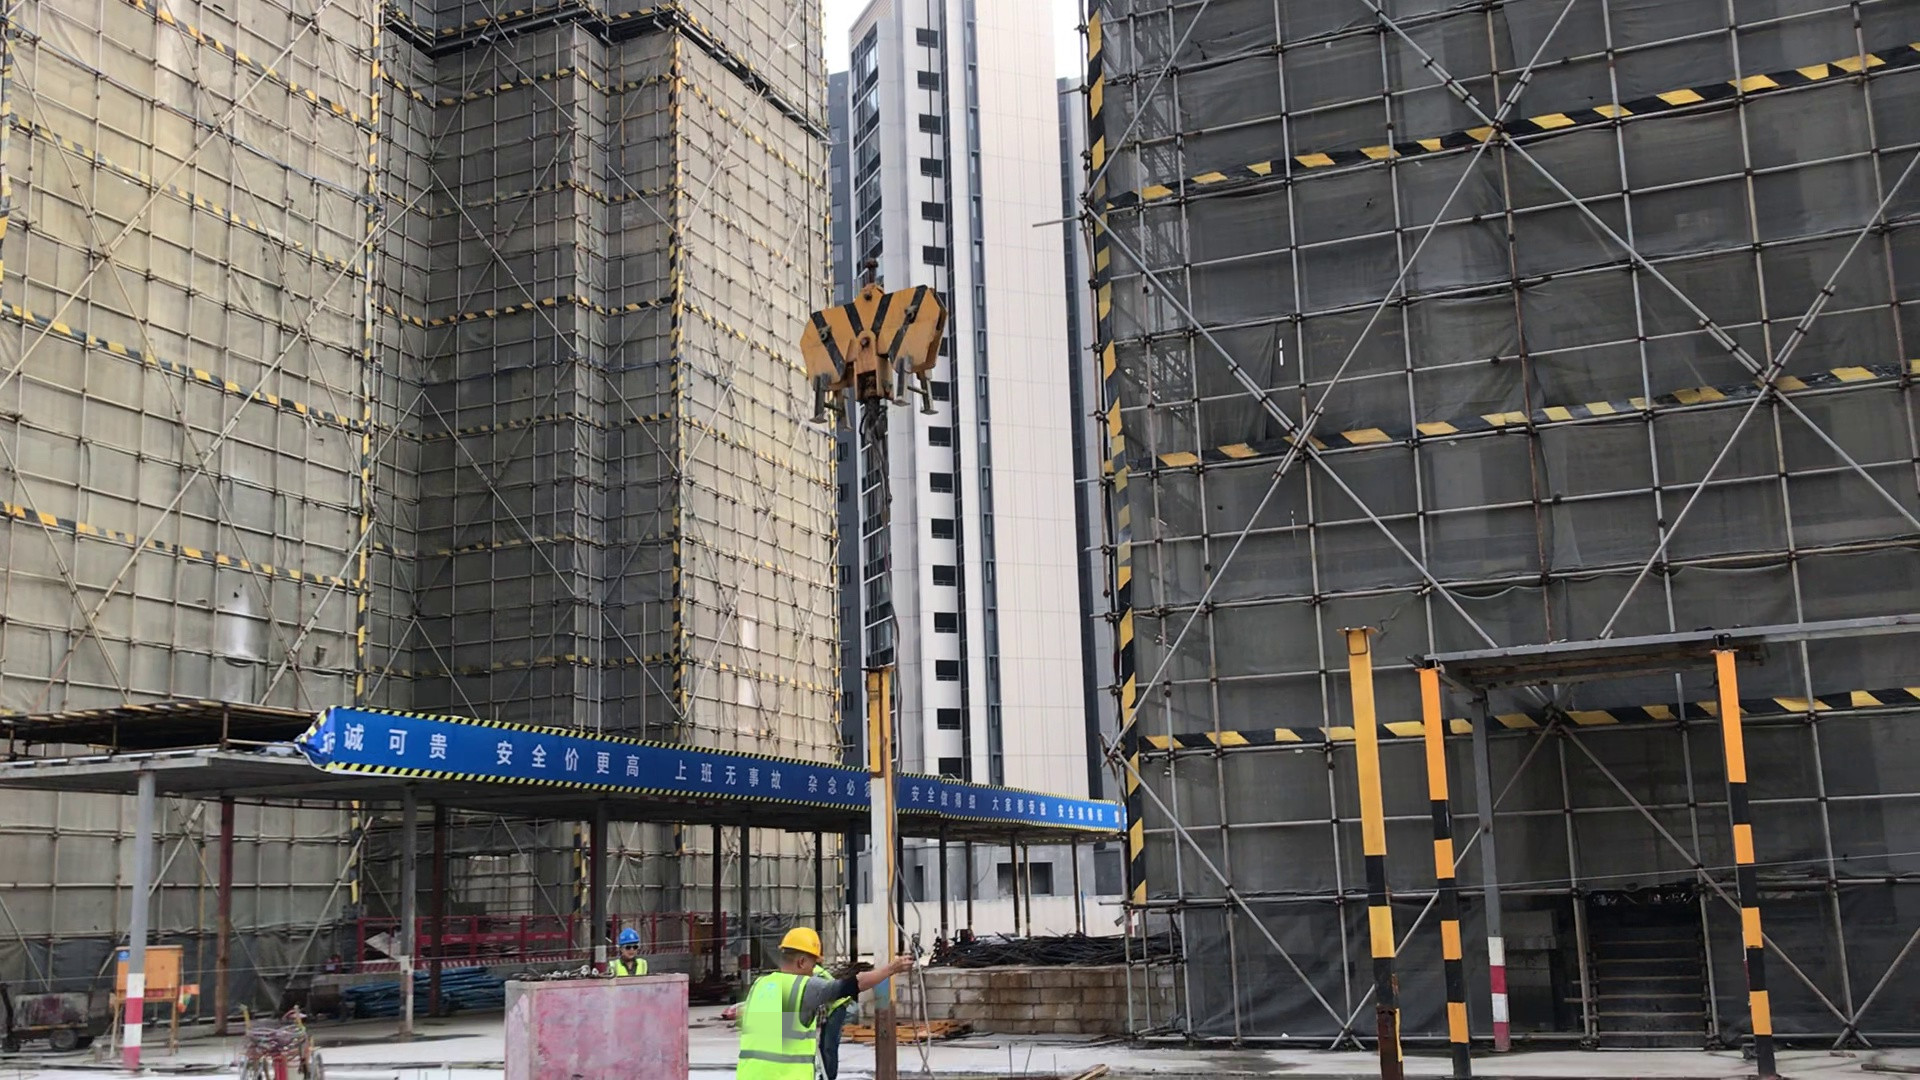ebox: (113, 942, 183, 997)
fence: (358, 910, 726, 973)
handcart: (236, 997, 319, 1080)
helmet: (778, 927, 820, 955), (616, 930, 641, 945)
hook: (801, 258, 947, 441)
person: (740, 927, 914, 1080), (606, 928, 652, 976)
slogan: (325, 701, 1121, 835)
vest: (737, 971, 819, 1079)
